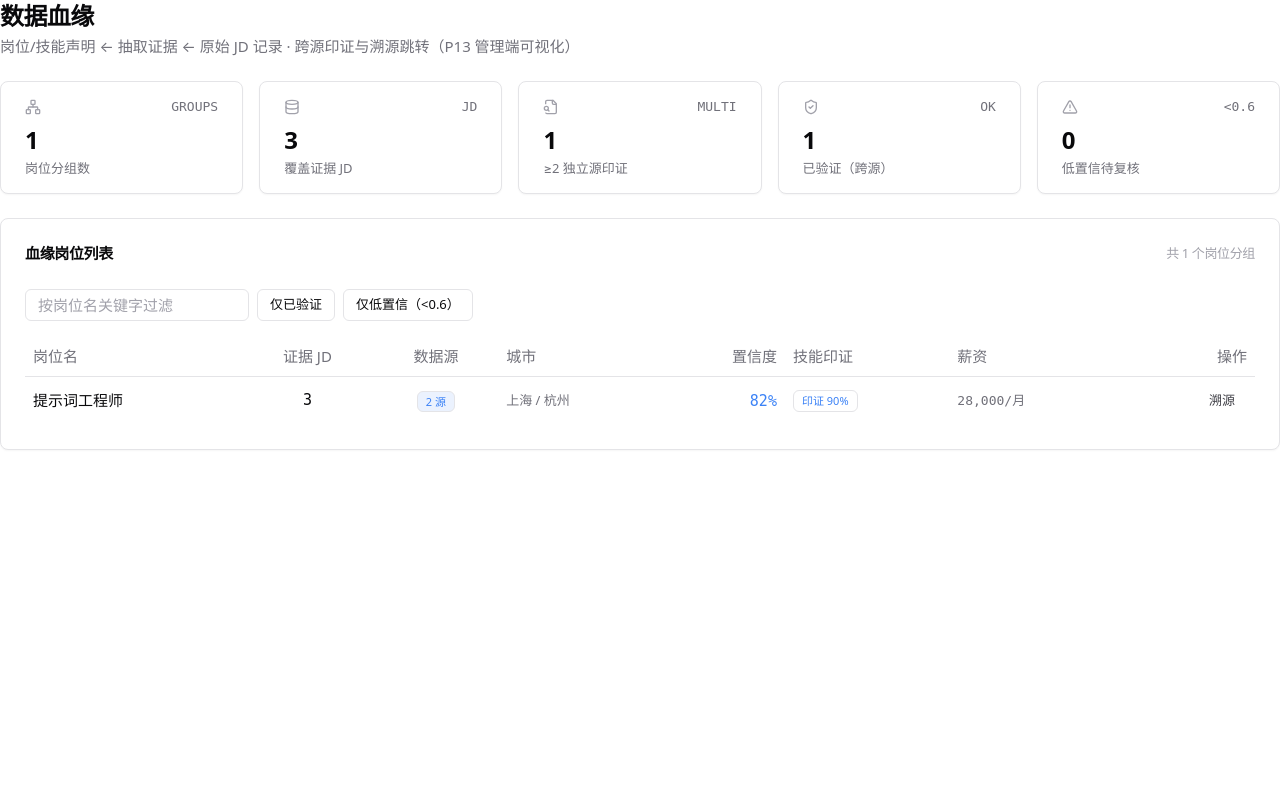
Test: AdminLineagePage 数据血缘 › 详情加载失败展示错误文案
Expected: the text "提示词工程师" is shown, [25,376,241,425]
Click the button "溯源": coordinates (1222, 401) [1197,385,1247,417]
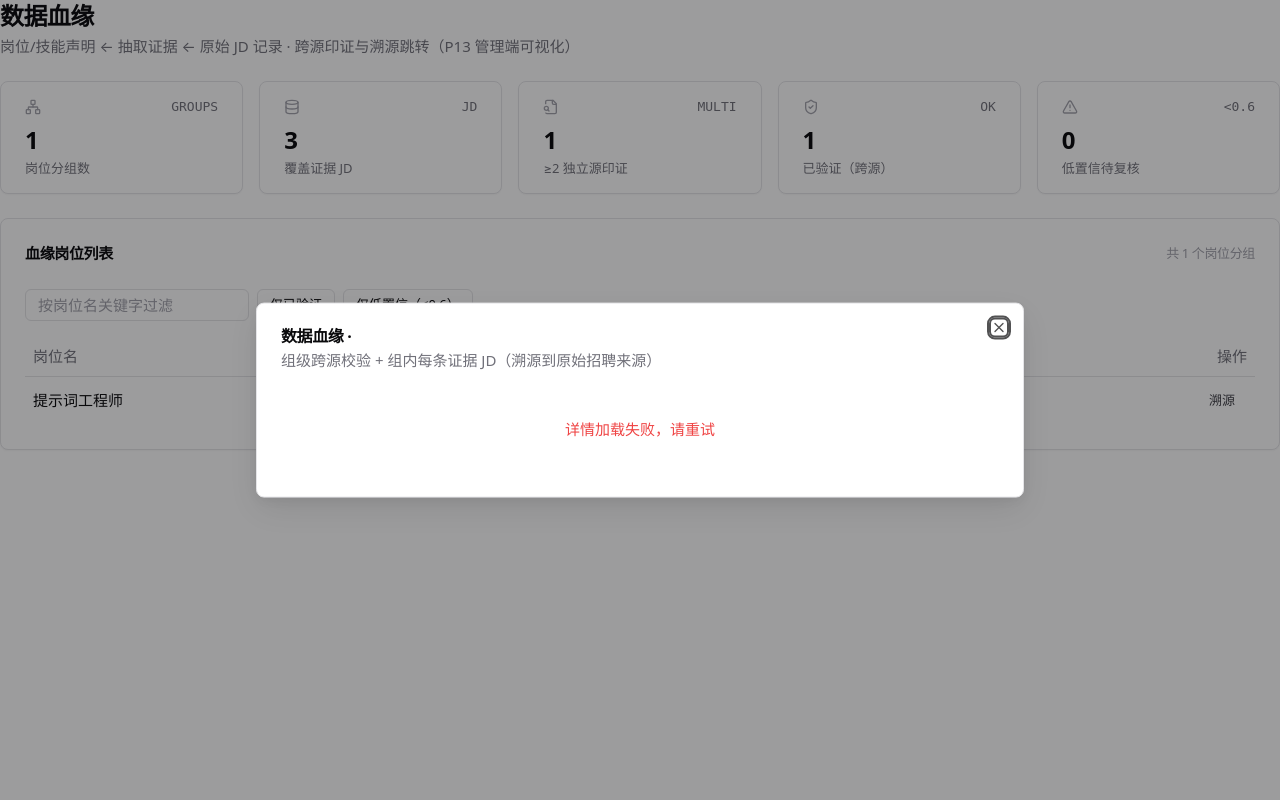
Expected: the text "详情加载失败，请重试" is shown, [565,419,715,439]
